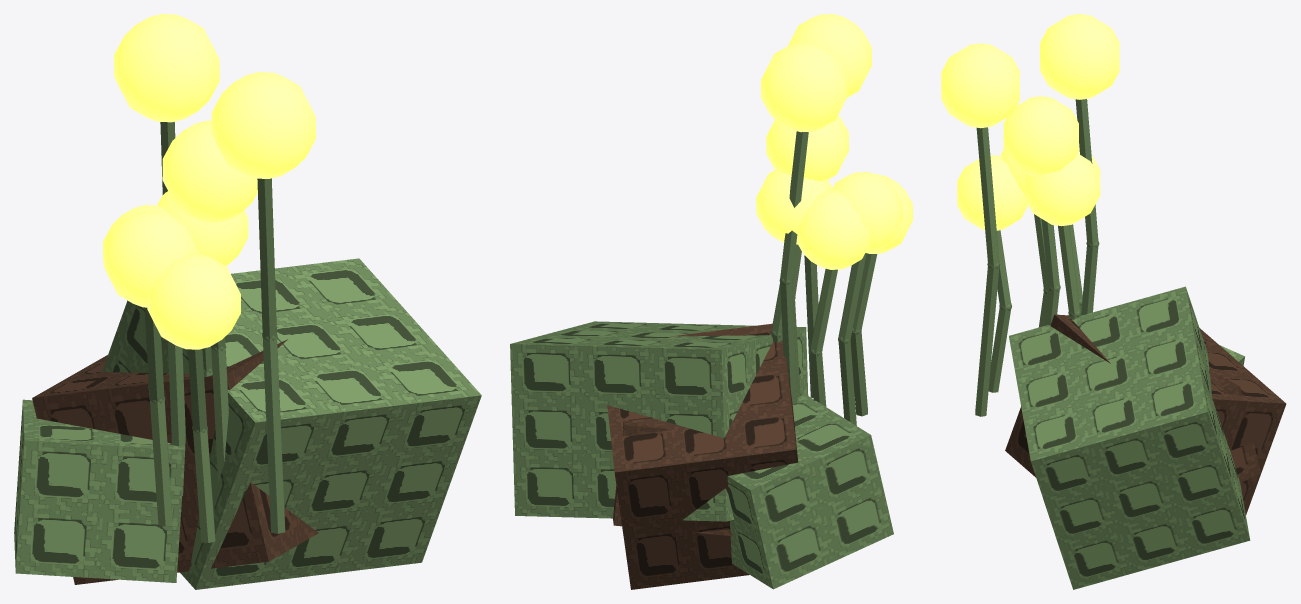
Rendered from BogGlowBulbs.glb.
3 renders of one model, left to right at view 1: azimuth 30°, elevation 25°; view 2: azimuth 150°, elevation 25°; view 3: azimuth 270°, elevation 25°, orthographic. The views are drawn at different scales.
Parts seen in each view (by area): view 1: BogGlowBulbs, BogGlowBulbs_Glow; view 2: BogGlowBulbs, BogGlowBulbs_Glow; view 3: BogGlowBulbs, BogGlowBulbs_Glow.
Boxes of the visible parts, x1,y1,x2,y2 form: BogGlowBulbs: [14, 121, 481, 589]; BogGlowBulbs_Glow: [103, 14, 315, 349]; BogGlowBulbs: [510, 131, 893, 589]; BogGlowBulbs_Glow: [756, 14, 912, 269]; BogGlowBulbs: [975, 99, 1286, 589]; BogGlowBulbs_Glow: [941, 14, 1119, 230].
Bounding box in the file's own units: 5.79 × 8.14 × 5.3.
2 materials, 1 textured.
